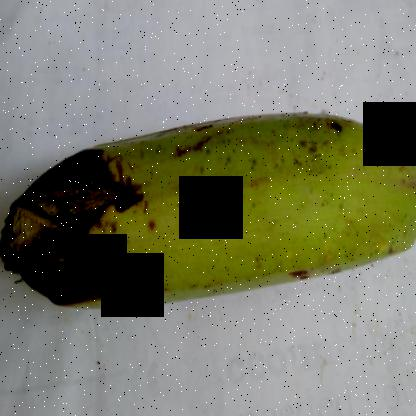unripe: (129, 61, 415, 331)
